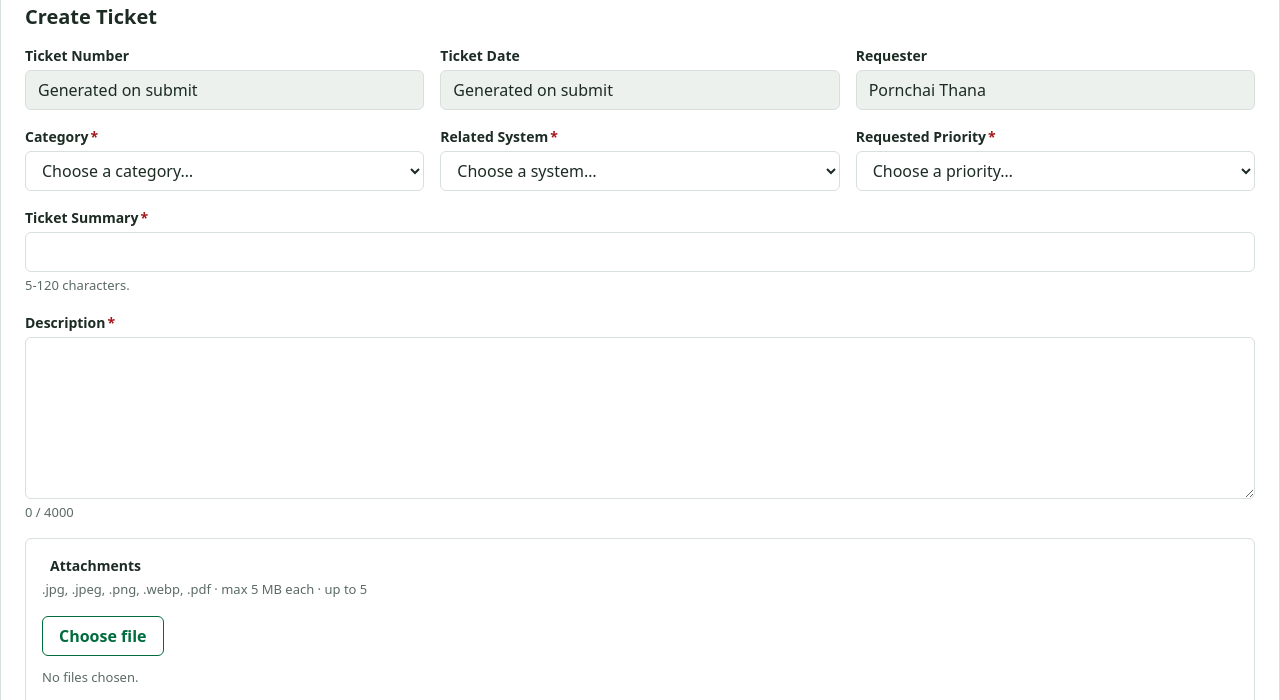
Test case: submission › issues exactly one request when Submit is clicked twice
Select "Hardware" in the dropdown labelled "Category*" at (225, 171), box [25, 151, 424, 191]
Select "Corporate Laptop" in the dropdown labelled "Related System*" at (640, 171), box [440, 151, 840, 191]
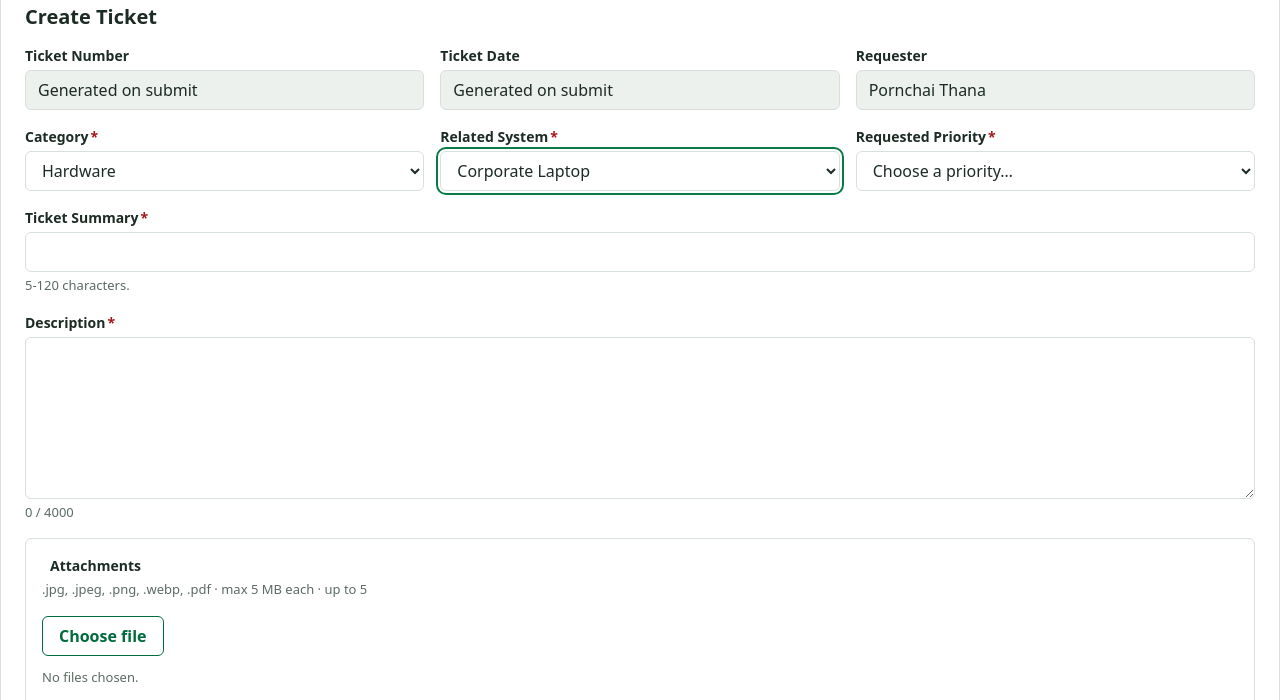
Select "Medium" in the dropdown labelled "Requested Priority*" at (1055, 171), box [856, 151, 1255, 191]
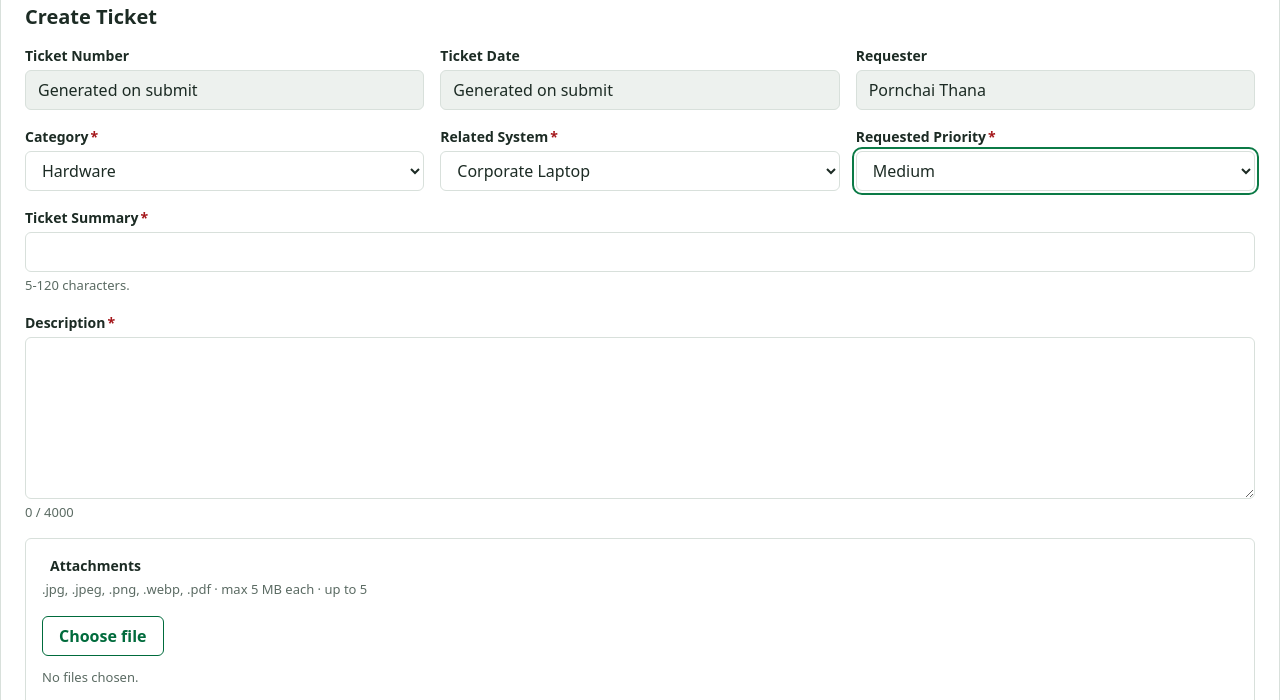
Type "Laptop battery drains within 30 minutes" into the field labelled "Ticket Summary*".
click(640, 252); type("Laptop battery drains within 30 minutes")  # box [25, 232, 1255, 272]
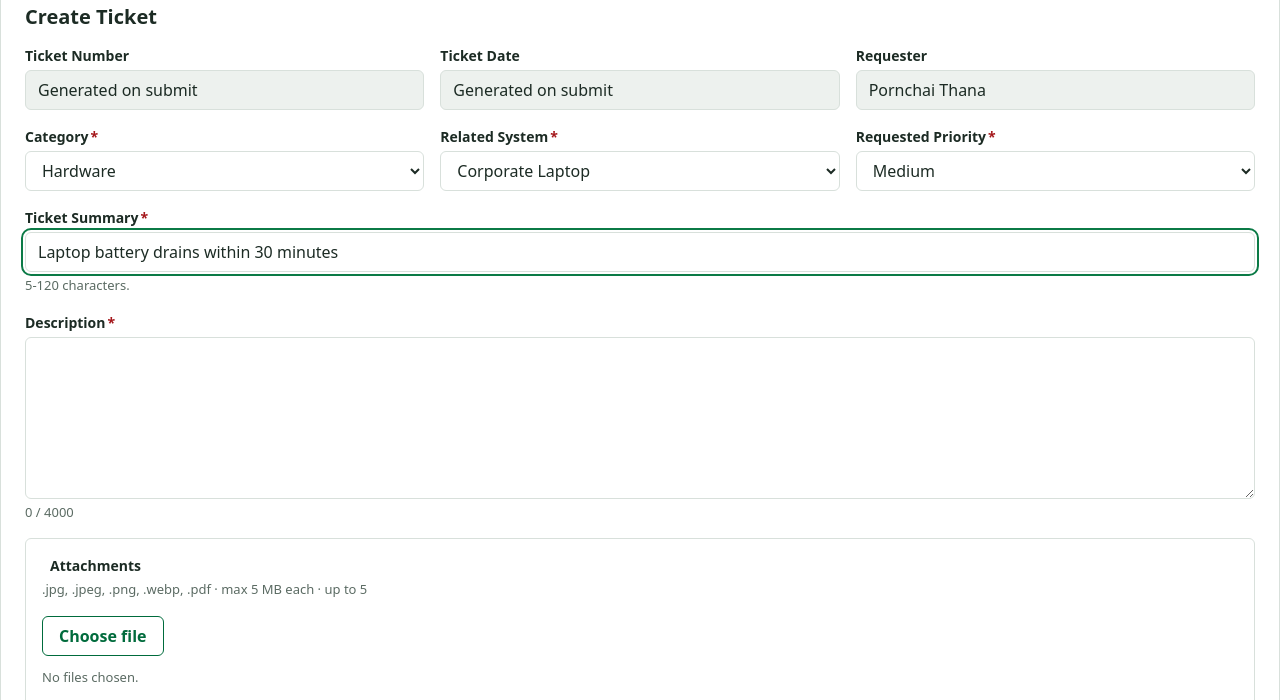
Type "Since Monday the corporate laptop battery falls from 100% to 5% in about half an hour." into the text box labelled "Description*".
click(640, 418); type("Since Monday the corporate laptop battery falls from 100% to 5% in about half an hour.")  # box [25, 336, 1255, 498]
(page scrolled)
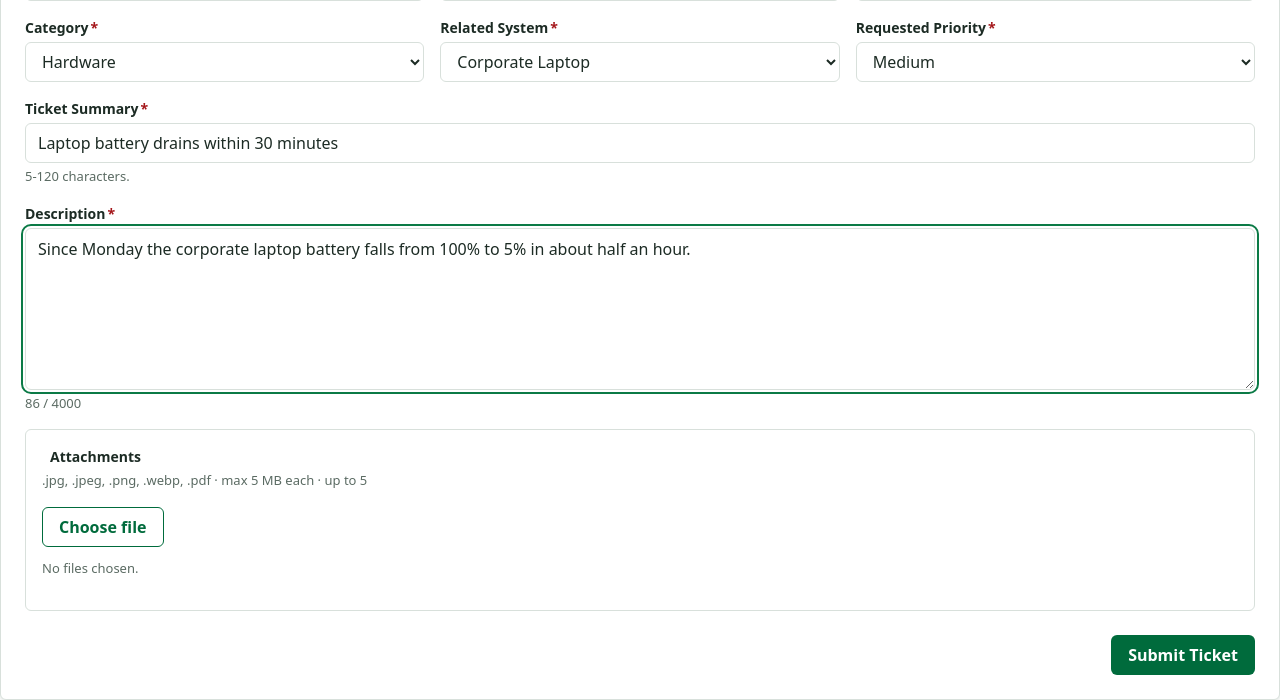
Click the button "Submit Ticket".
click(1183, 655)  # box [1111, 635, 1255, 675]
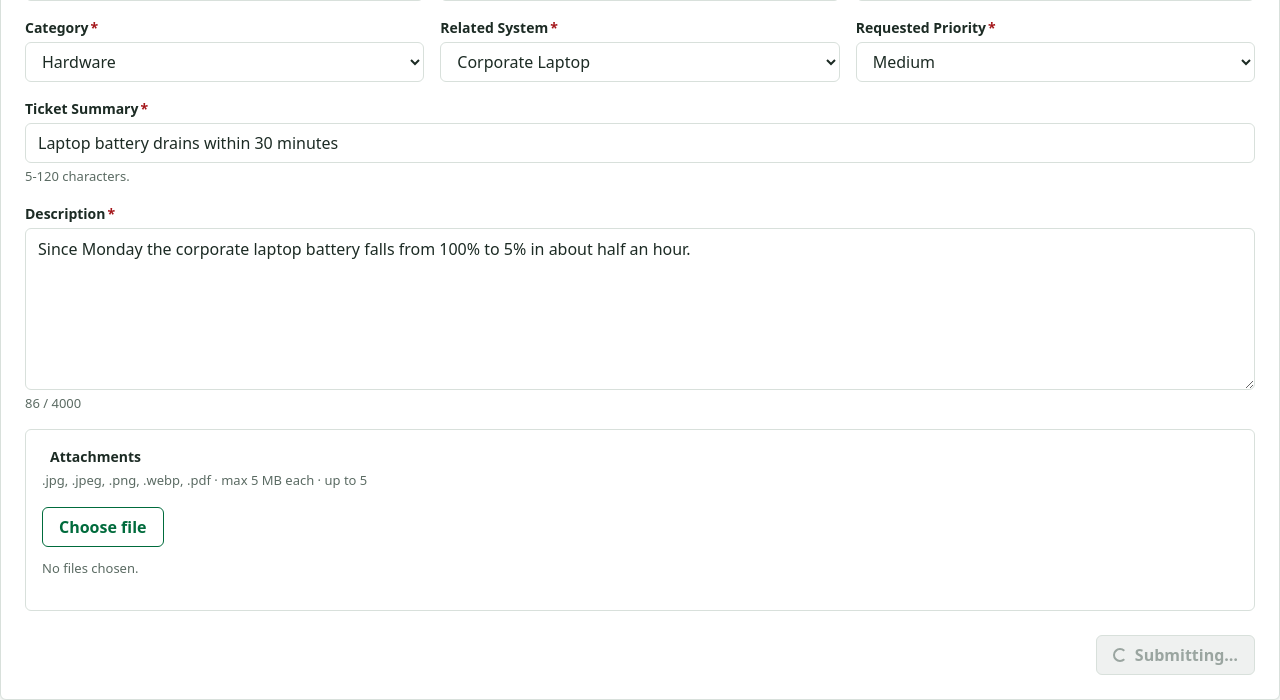
Click the button named "Submit Ticket".
click(1175, 655)  # box [1096, 635, 1255, 675]
(page scrolled)
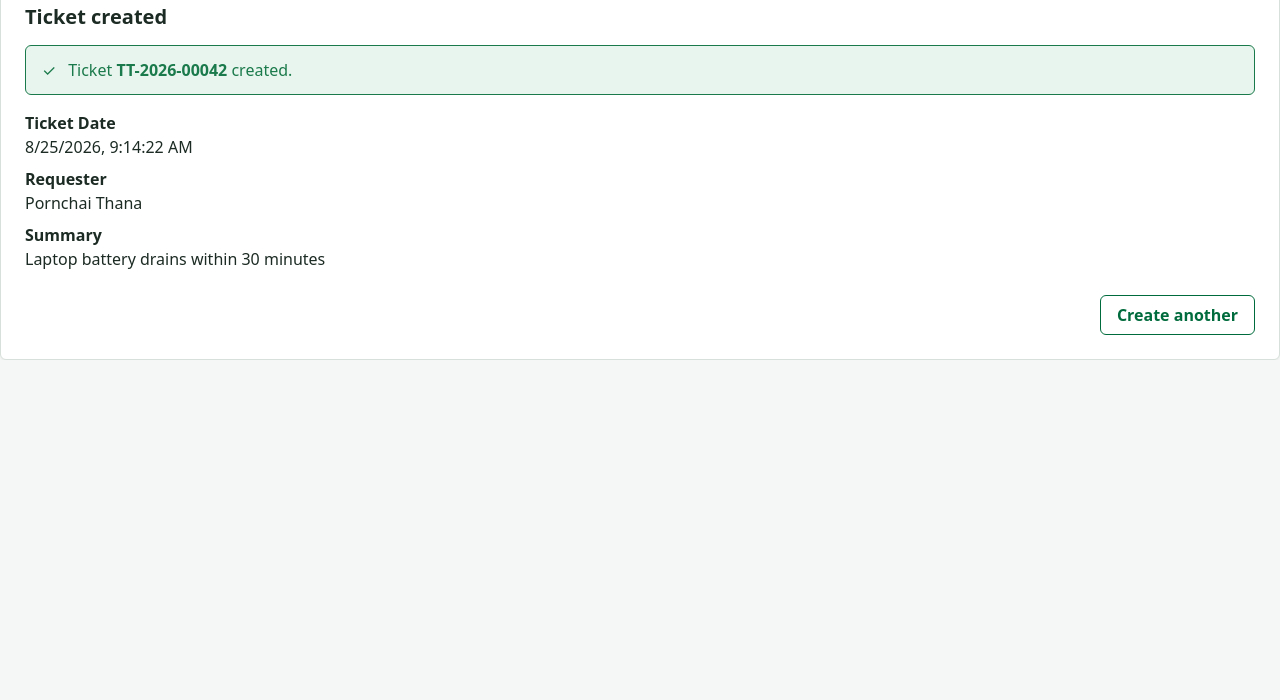
Expected: the text "TT-2026-00042" is shown, [116, 59, 227, 81]
